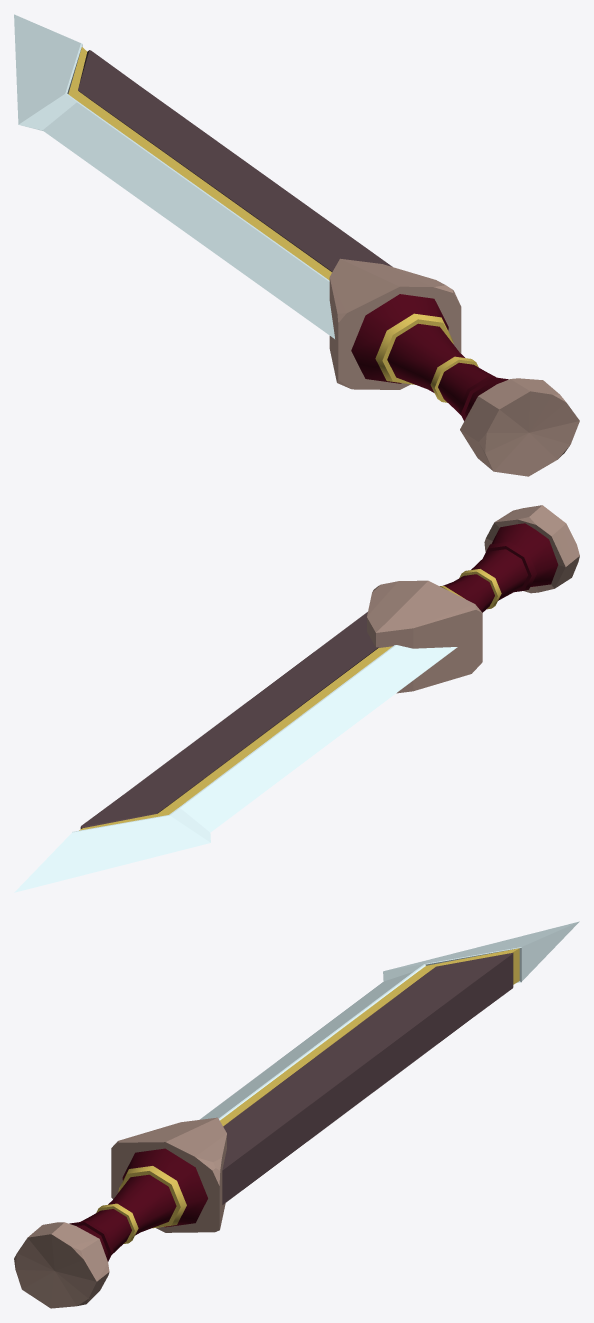
Rendered from Espada.fbx.
3 views of the same model, one above another, from view 1: azimuth 30°, elevation 25°; view 2: azimuth 150°, elevation 25°; view 3: azimuth 330°, elevation 25° (orthographic). The views are drawn at different scales.
Parts seen in each view (by area): view 1: Hoja, Mango, Culata, Soporte; view 2: Hoja, Soporte, Mango, Culata; view 3: Hoja, Mango, Culata, Soporte.
Part boxes in pixels (x1=…): Hoja: x1=14, y1=14, x2=392, y2=338; Mango: x1=351, y1=294, x2=508, y2=420; Culata: x1=460, y1=378, x2=579, y2=476; Soporte: x1=329, y1=258, x2=461, y2=389; Hoja: x1=14, y1=612, x2=457, y2=892; Soporte: x1=367, y1=580, x2=482, y2=693; Mango: x1=440, y1=523, x2=558, y2=612; Culata: x1=484, y1=505, x2=579, y2=593; Hoja: x1=199, y1=921, x2=579, y2=1204; Mango: x1=69, y1=1148, x2=207, y2=1261; Culata: x1=14, y1=1222, x2=109, y2=1308; Soporte: x1=111, y1=1117, x2=226, y2=1232.
Size of the model in its own units: 38.18 by 29.37 by 288.
